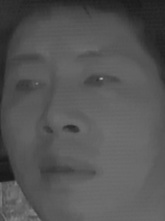eye: (10, 74, 47, 100), (82, 69, 120, 93)
mouth: (36, 151, 97, 190)
